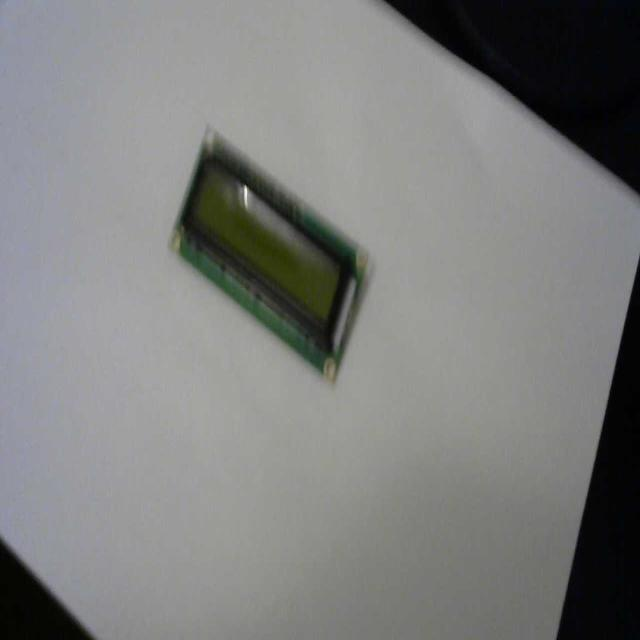lcd: (170, 122, 370, 385)
